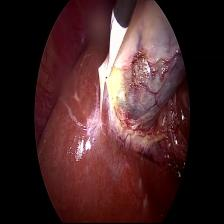Hook: (96, 8, 129, 84)
